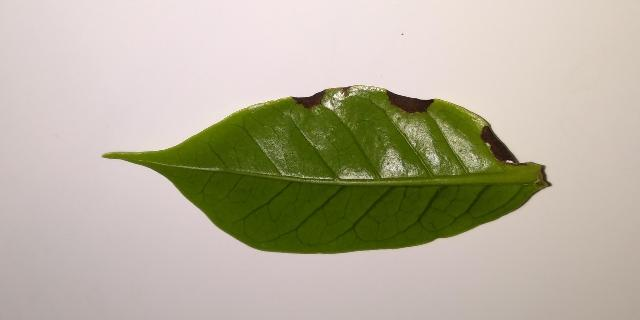rust: (481, 127, 516, 164), (388, 90, 433, 112), (293, 89, 326, 108)
